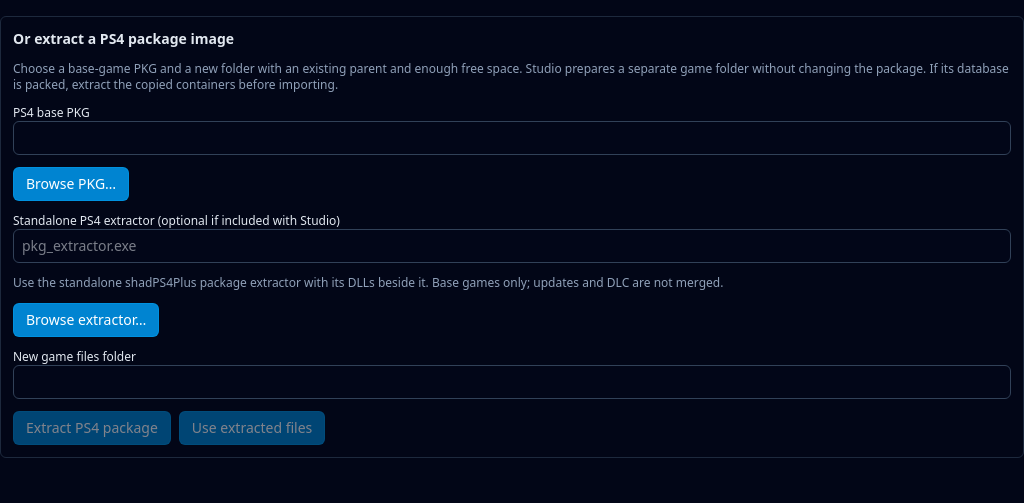
Test: never opens a cancelled partial disc
In the field labelled "PS4 base PKG": (512, 138) [13,121,1011,155], type "X:/NHL21.pkg"
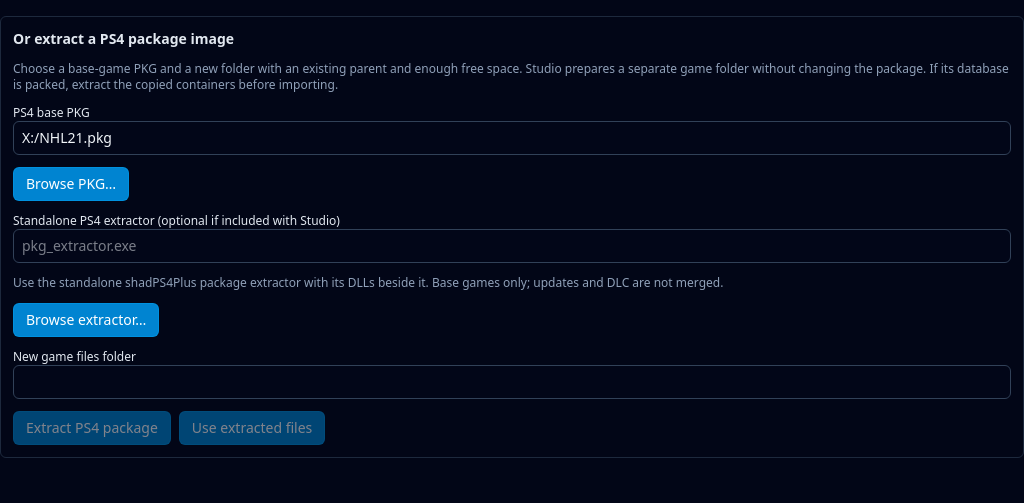
In the field named "PS4 package output folder": (512, 382) [13,365,1011,399], type "E:/new disc"
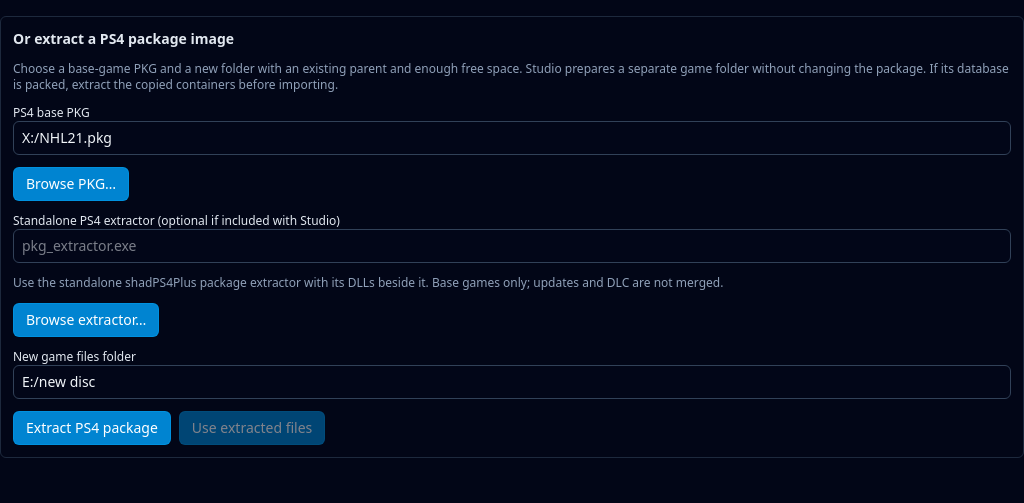
Click the button "Extract PS4 package": (92, 428) [13,411,171,445]
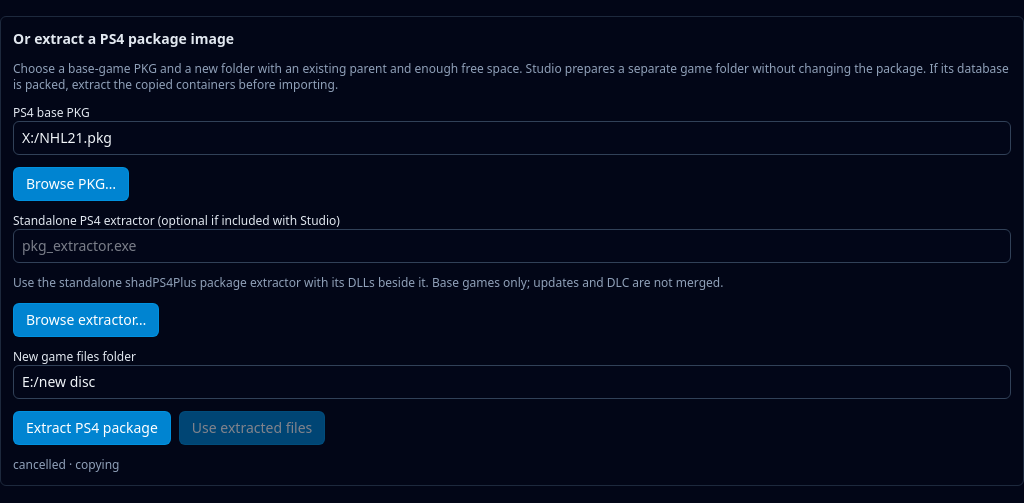
Expected: the button "Use extracted files" is disabled, [179,411,325,445]
Now the message shows "cancelled", box [13,456,66,473]
